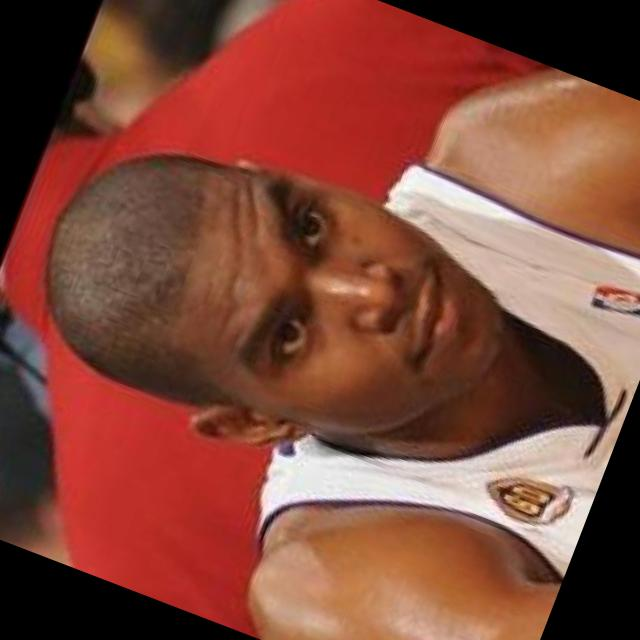bareface: (51, 120, 532, 493)
